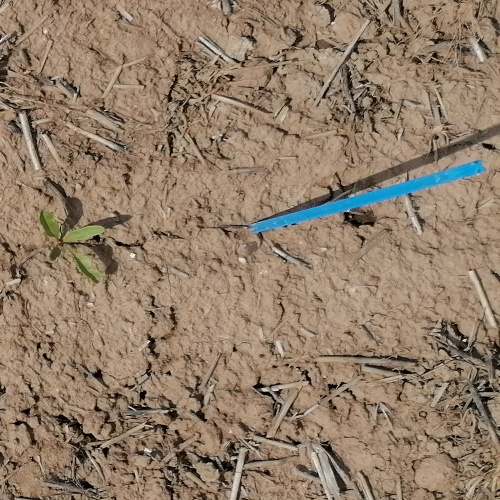beet: (41, 211, 104, 283)
